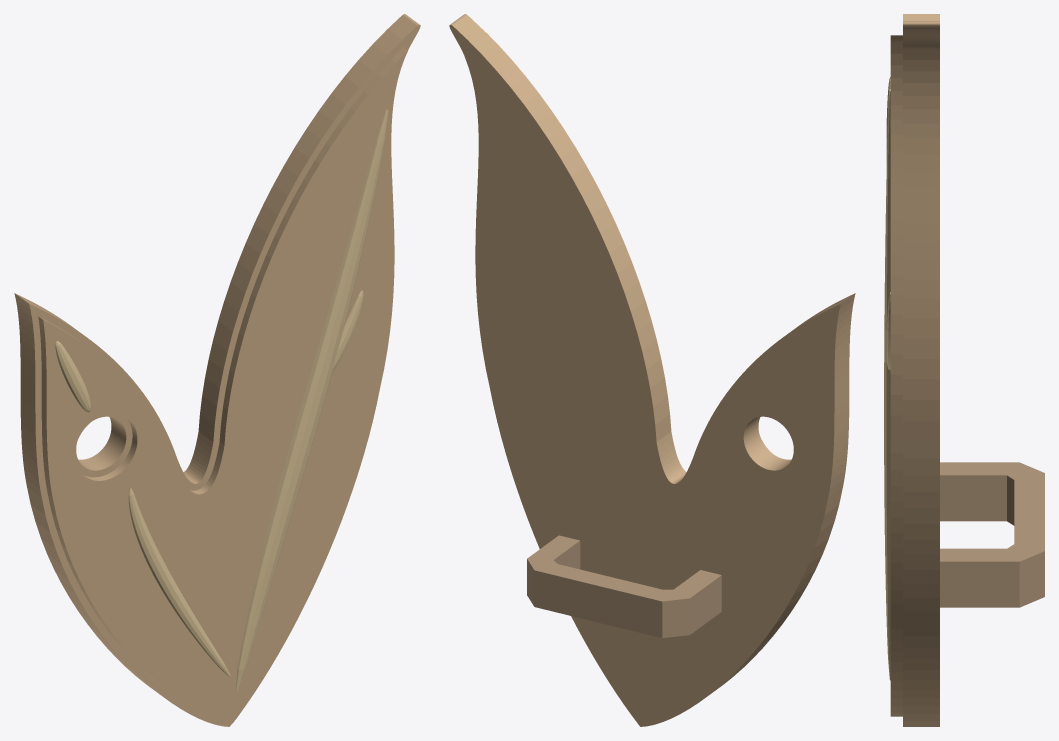
Rendered from twin-reed.glb.
3 renders of one model, left to right at view 1: azimuth 30°, elevation 25°; view 2: azimuth 150°, elevation 25°; view 3: azimuth 270°, elevation 25°, orthographic. The views are drawn at different scales.
Parts seen in each view (by area): view 1: face bevel, cast edge, raised vein 1, raised vein 2, raised vein 3, raised vein 4; view 2: cast edge, sewing bridge; view 3: cast edge, sewing bridge, face bevel, raised vein 1, raised vein 4.
Part boxes in pixels (x1,y1,x2,y2): face bevel: (38, 47, 407, 723); cast edge: (14, 14, 420, 726); raised vein 1: (235, 109, 388, 690); raised vein 2: (128, 488, 230, 677); raised vein 3: (55, 341, 90, 412); raised vein 4: (331, 290, 363, 374); cast edge: (449, 14, 855, 726); sewing bridge: (527, 535, 721, 638); cast edge: (903, 14, 939, 726); sewing bridge: (940, 462, 1044, 607); face bevel: (890, 35, 902, 716); raised vein 1: (884, 89, 890, 680); raised vein 4: (886, 292, 890, 370).
Size of the model in its own units: 0.0312 by 0.05 by 0.00889.
